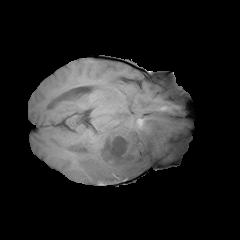glioma: (71, 111, 170, 184)
